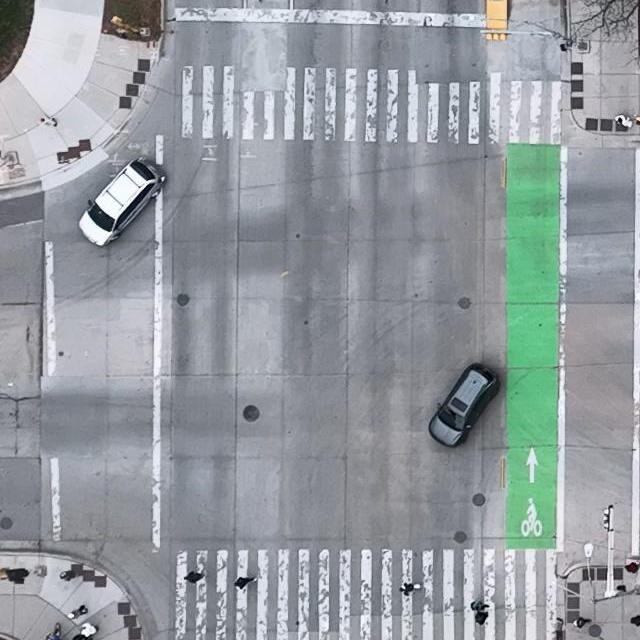car: (78, 156, 168, 247), (429, 361, 502, 446)
